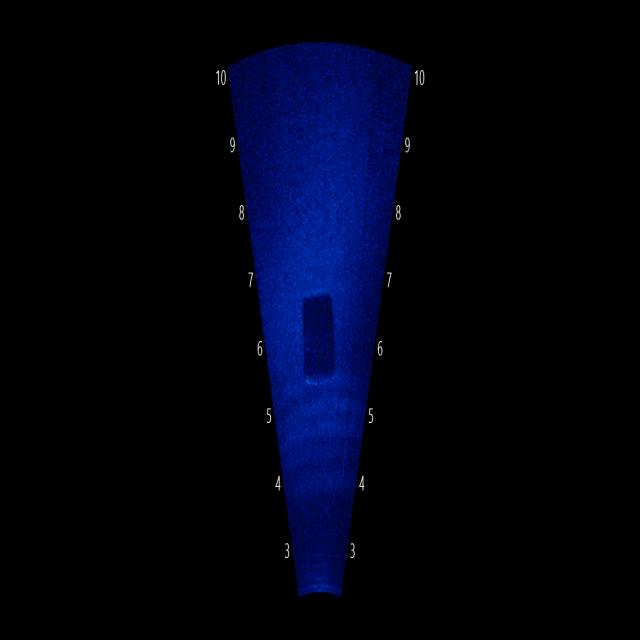square: (292, 279, 348, 397)
